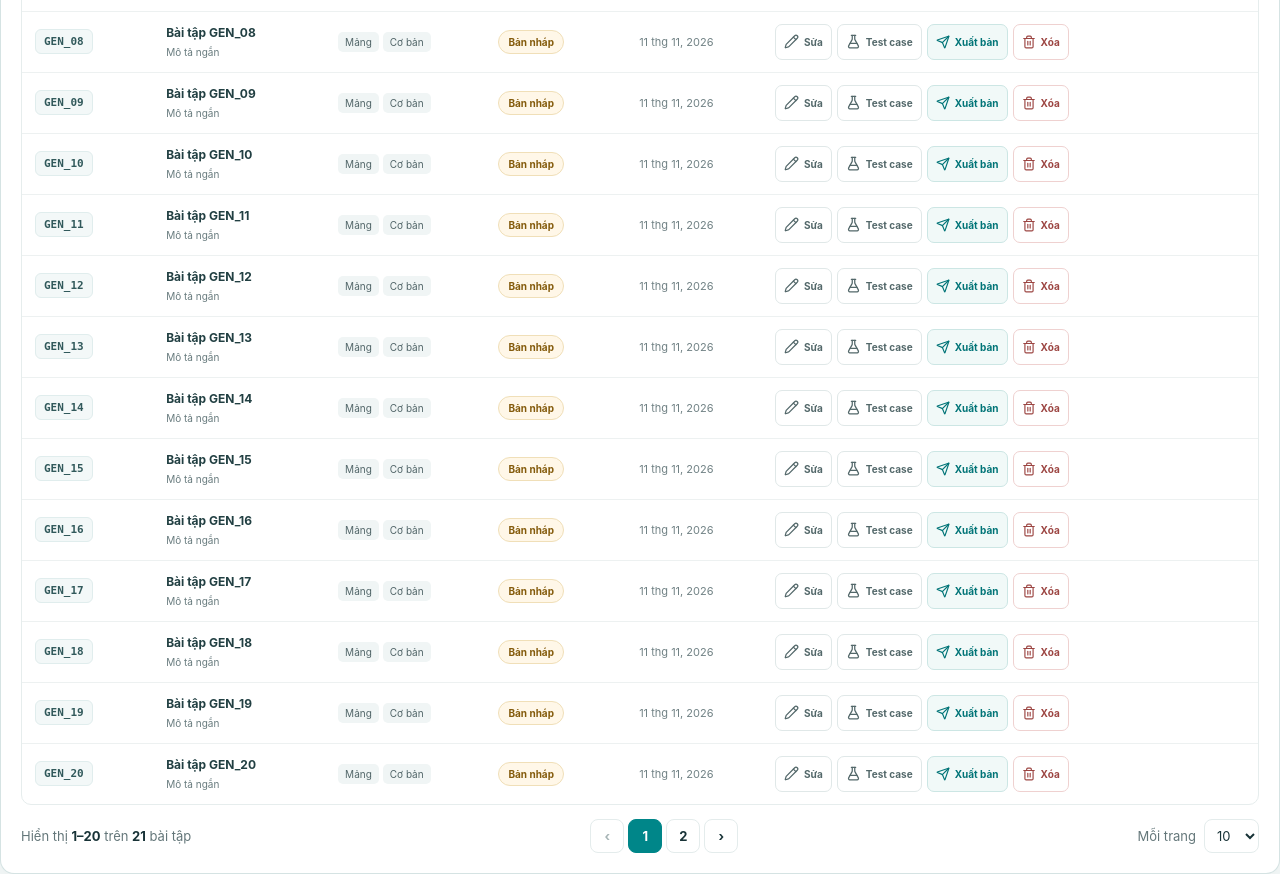
Test: AdminProblemsPage › moves back to the last available page when the record total shrinks
(page scrolled)
Select "10" in the dropdown labelled "Mỗi trang". click: coordinates (1232, 836)
box: [1204,819,1259,853]
Select "10" in the dropdown labelled "Mỗi trang". click: coordinates (1232, 836)
box: [1204,819,1259,853]
(page scrolled)
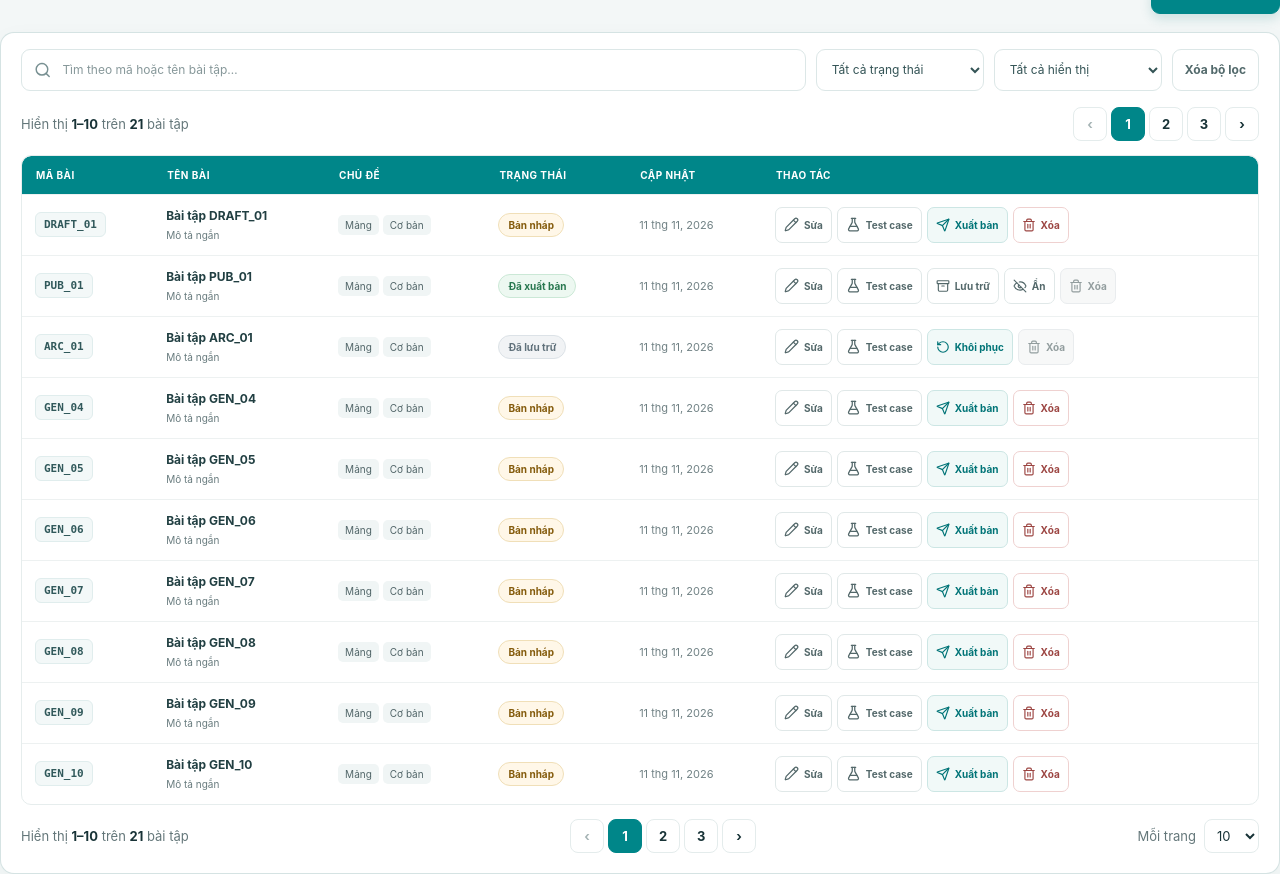
Click the button named "Trang sau". click: coordinates (739, 836)
box: [722,819,756,853]
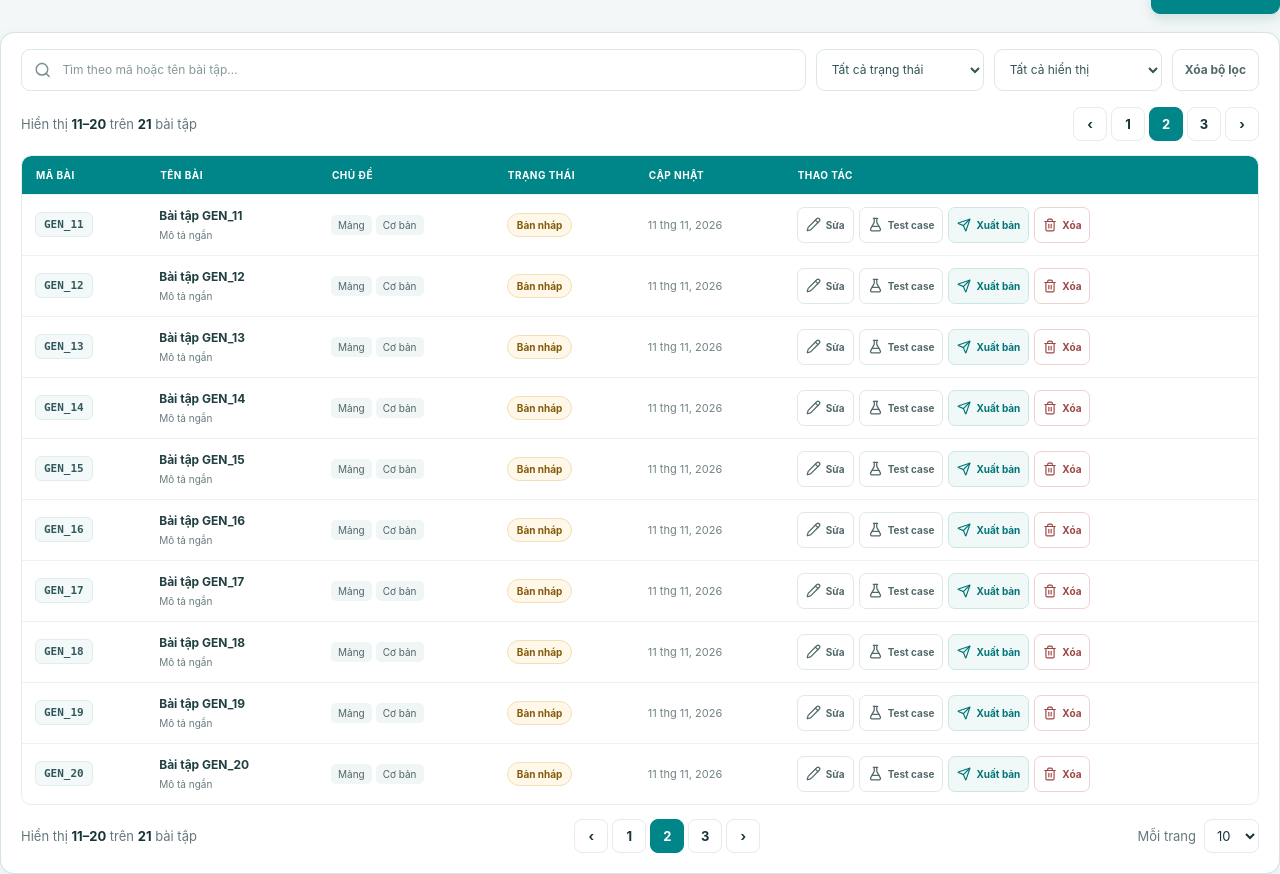
Click the button named "Trang sau". click: coordinates (743, 836)
box: [726,819,760,853]
(page scrolled)
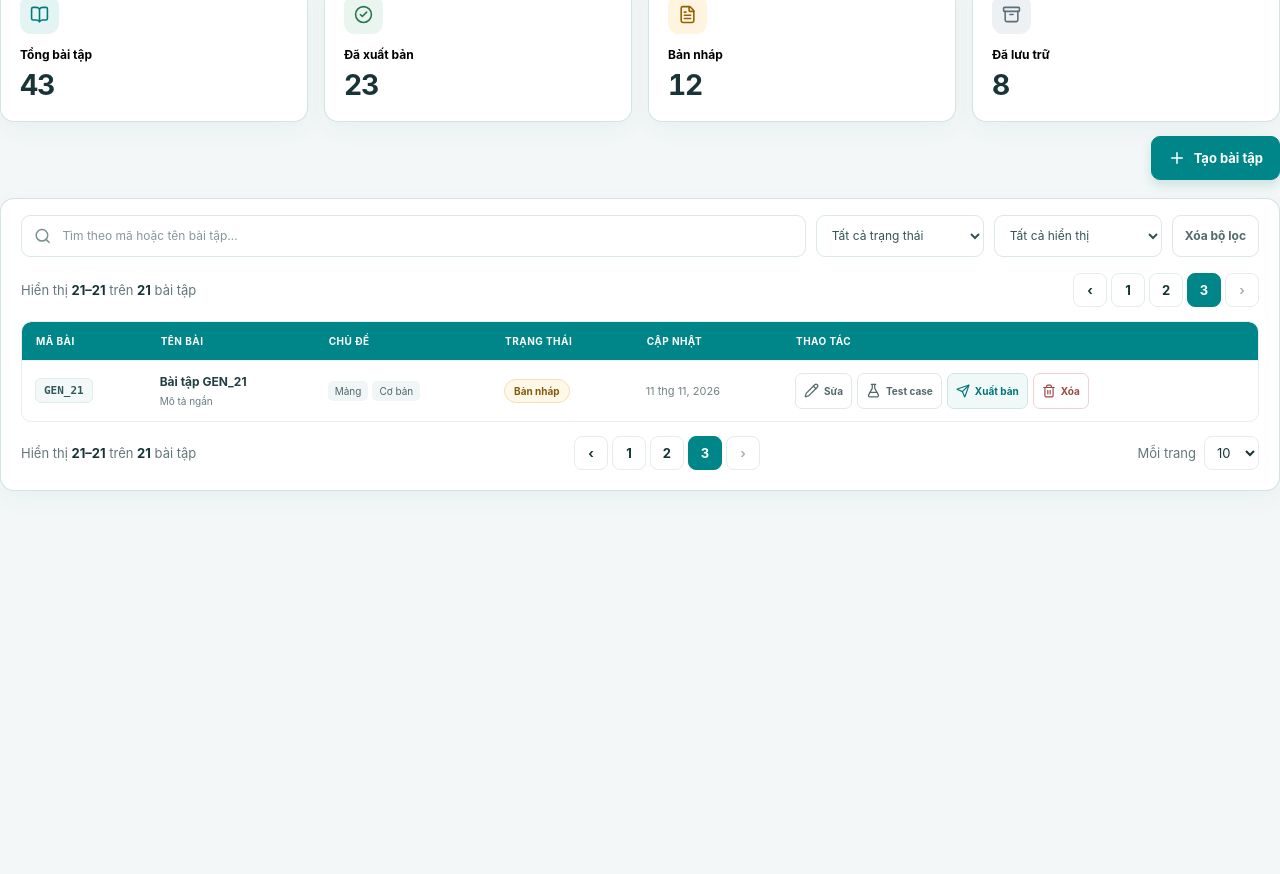
Expected: the button "3" in the row of "Mỗi trang" is shown, [688,436,722,470]
Click the button with aria-label "Xóa GEN_21". click: coordinates (1061, 391)
box: [1033,373,1089,409]
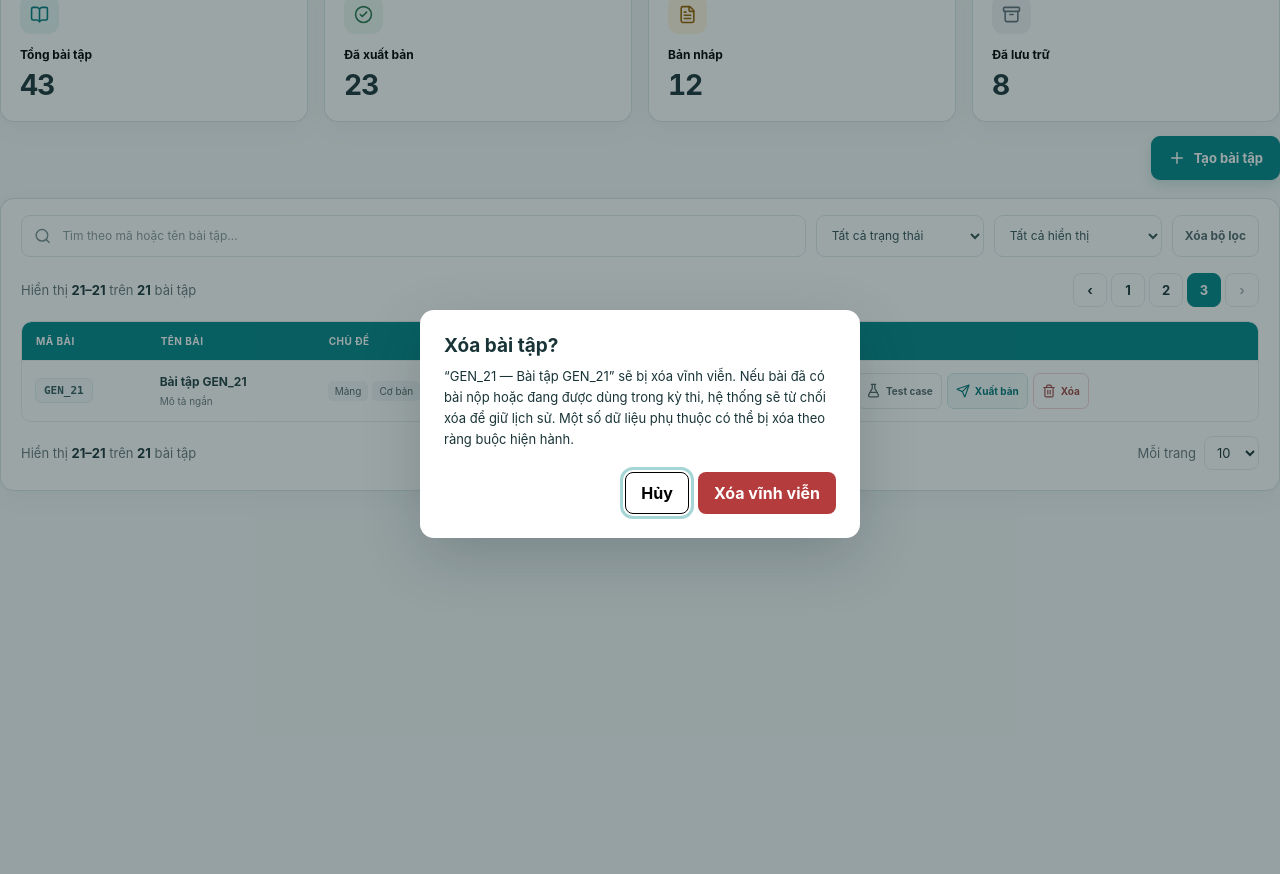
Click the button "Xóa vĩnh viễn". click: coordinates (767, 493)
box: [698,472,836,514]
(page scrolled)
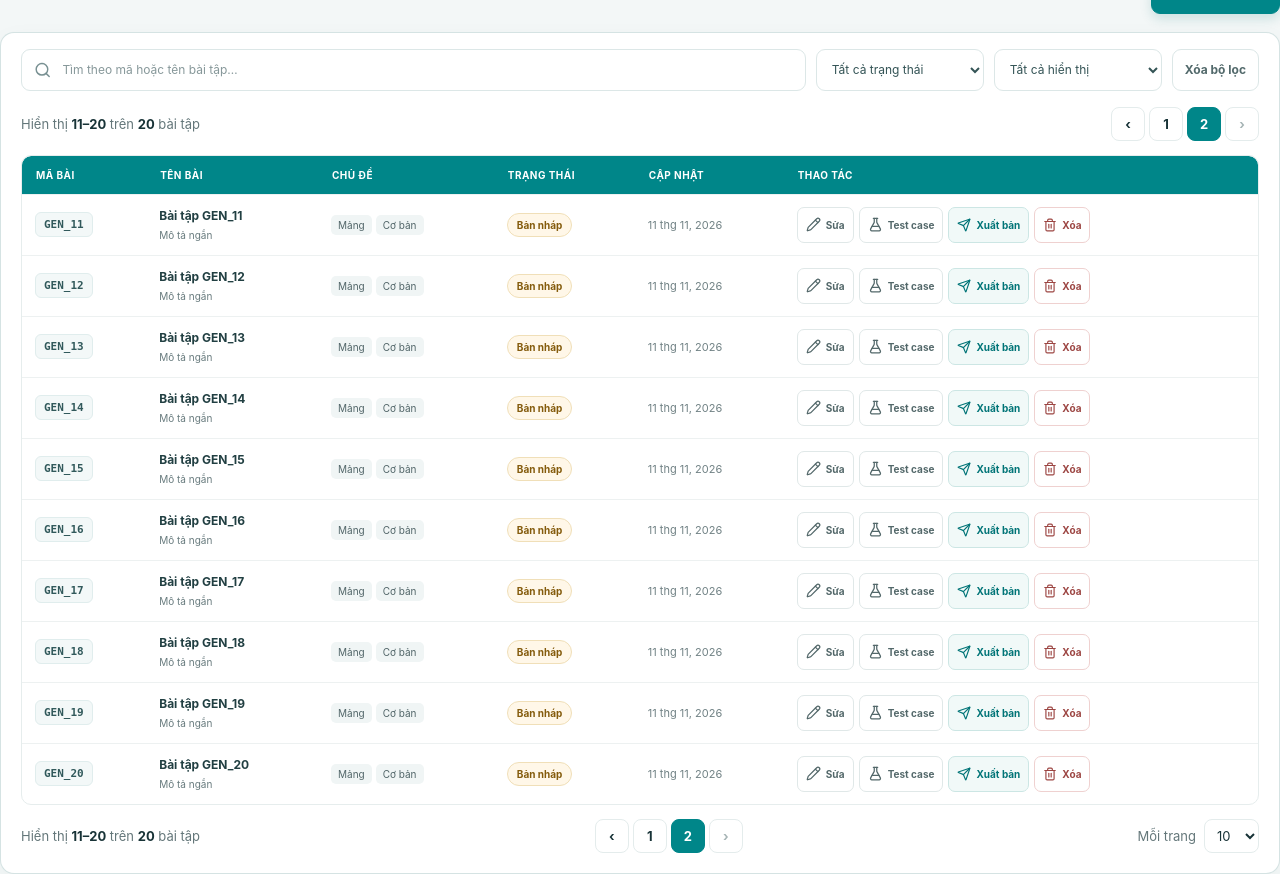
Expected: the 1st button "2" is shown, [1187,107,1221,141]
Now the element showing "Hiển thị 11–20 trên 20 bài tập" in the row of "Mỗi trang" is shown, box [21,828,200,844]
